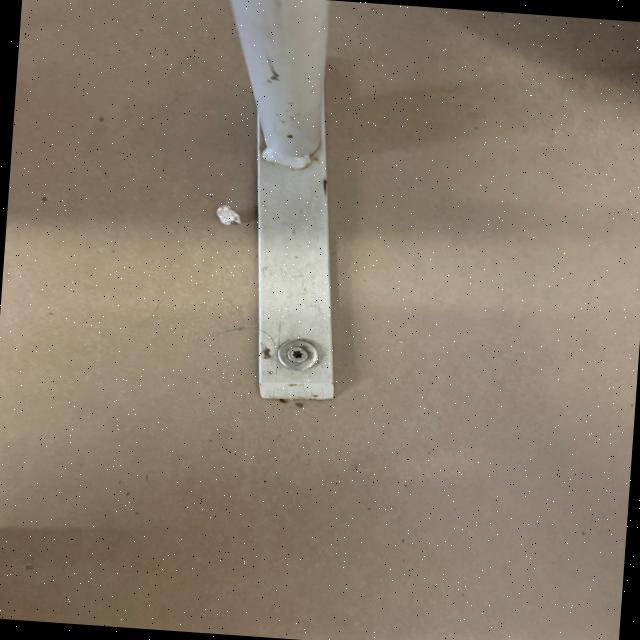Torx: (274, 340, 318, 370)
